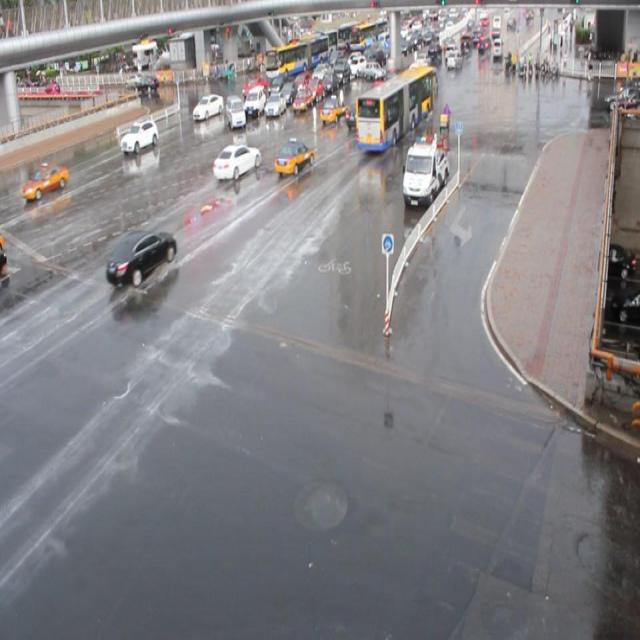BigCar: (358, 64, 440, 146)
car: (101, 218, 181, 290), (402, 132, 452, 215), (208, 133, 263, 182), (274, 134, 316, 180), (23, 165, 70, 204), (117, 120, 160, 158), (190, 92, 222, 125), (223, 92, 247, 133)
